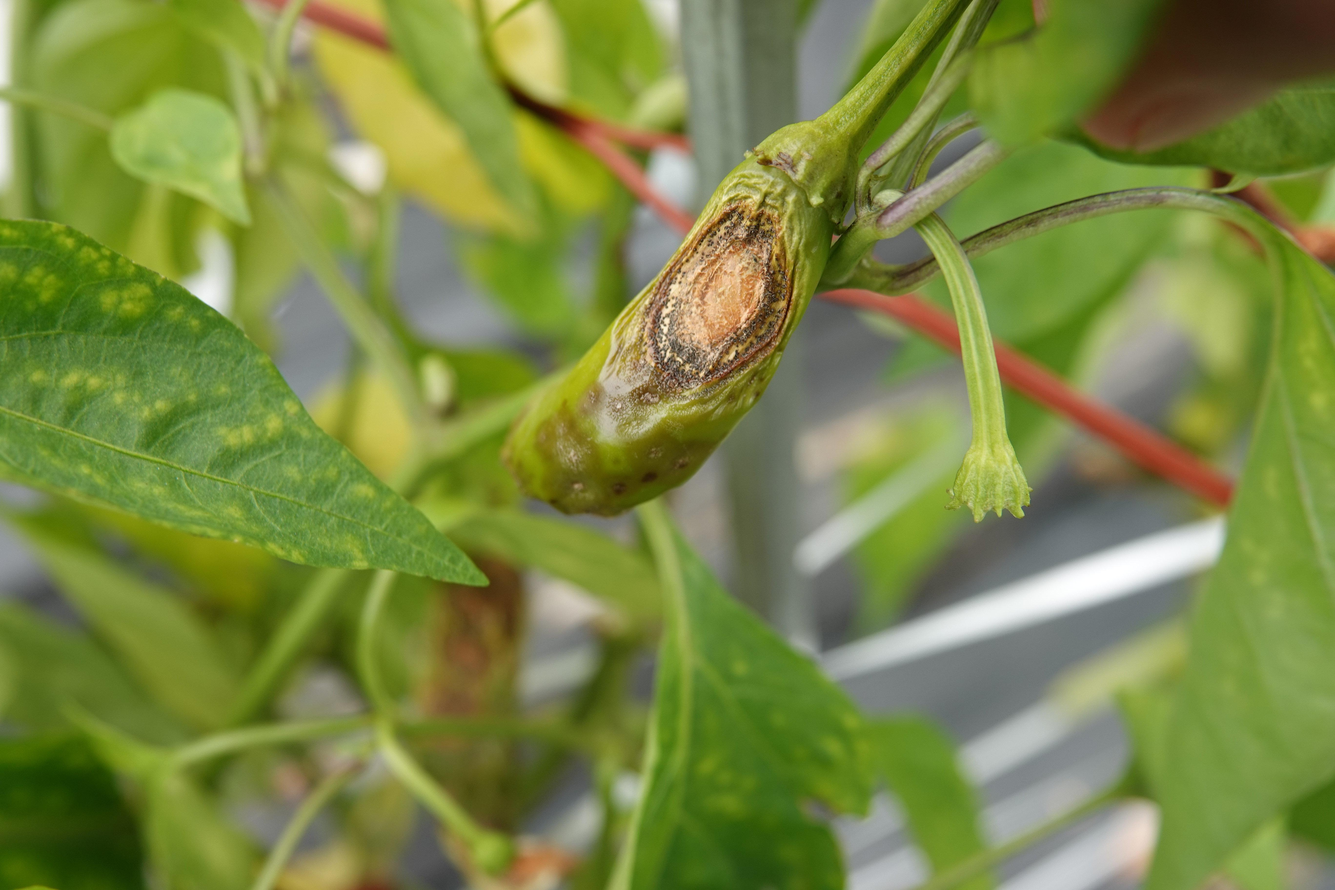Busuk Buah Antraknosa: (506, 115, 873, 521)
Virus Kuning: (0, 186, 493, 596)
